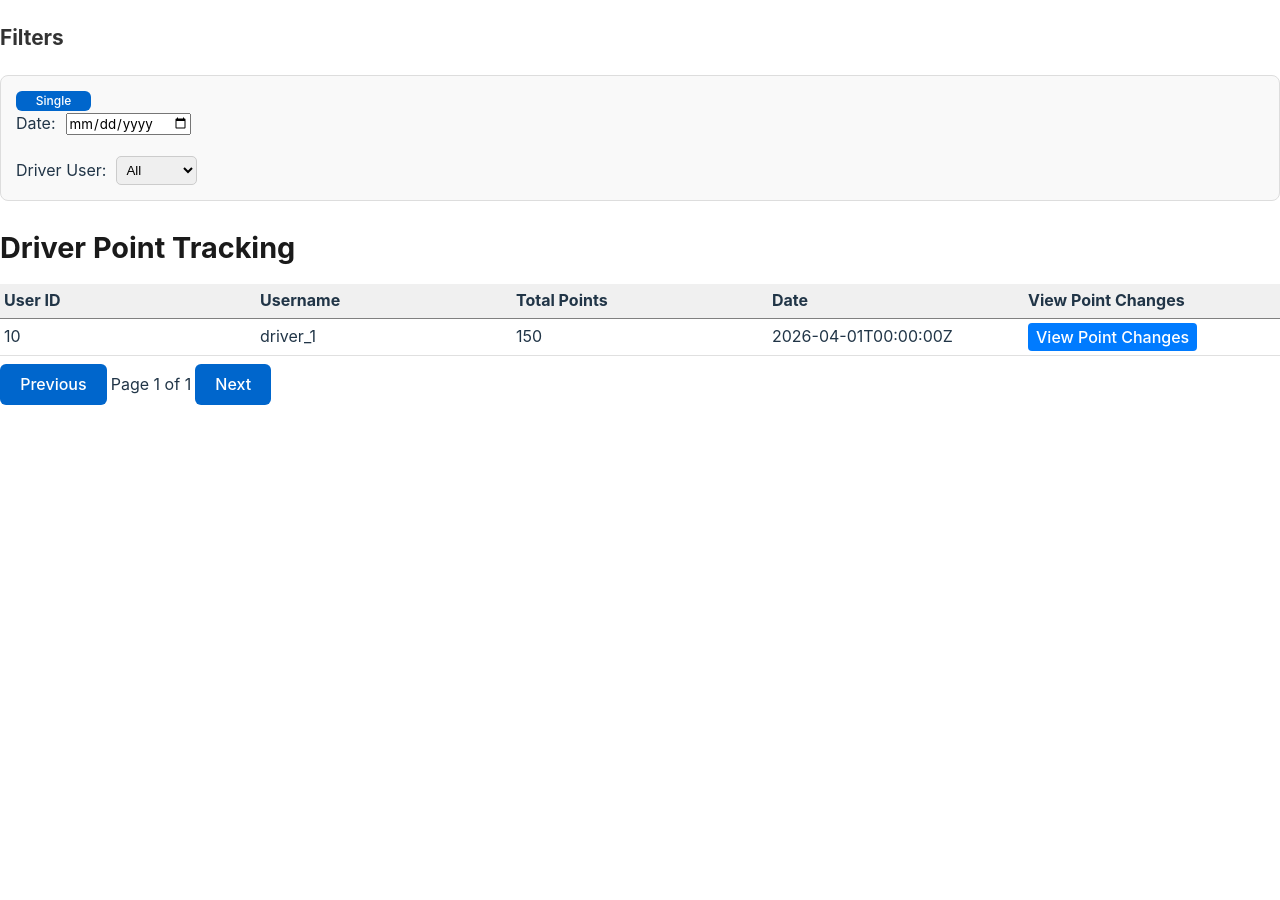
Test: DriverPointTrackingTab › renders drivers table and opens point changes modal
Expected: the text "driver_1" is shown, [256, 318, 512, 355]
Click the button "View Point Changes" at (1113, 337), box [1028, 323, 1197, 351]
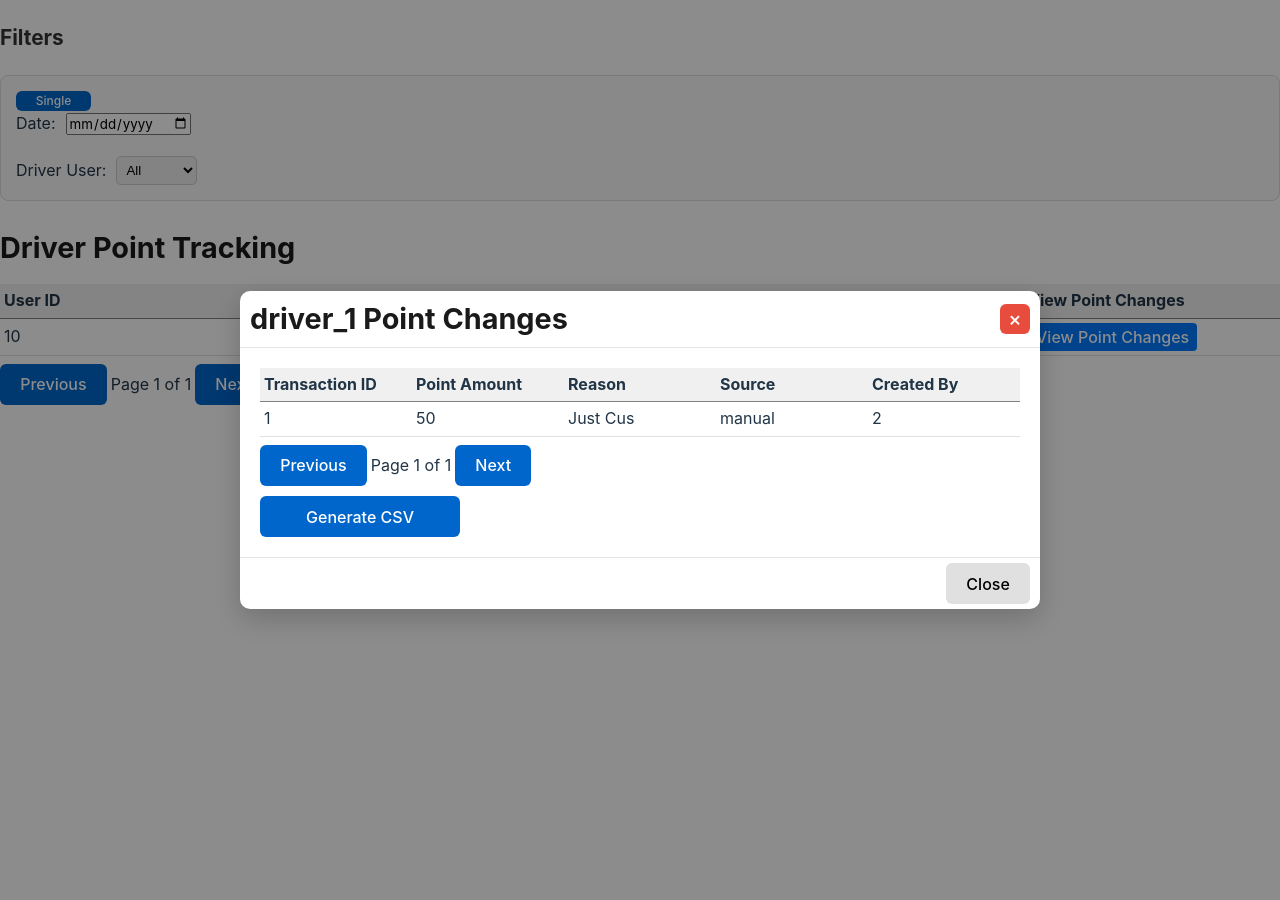
Expected: the heading "driver_1 Point Changes" is shown, [250, 296, 568, 342]
Expected: the text "1" is shown, [260, 402, 412, 436]
Expected: the button "Generate CSV" is shown, [260, 496, 460, 537]
